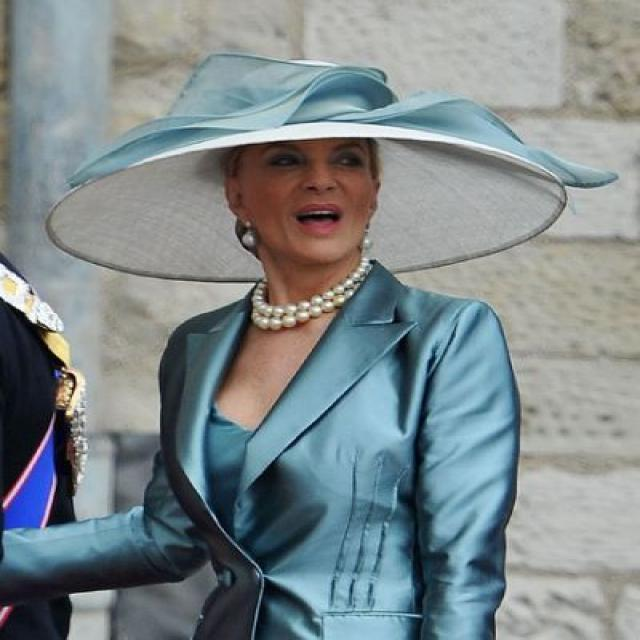Earring: (228, 205, 263, 268), (353, 209, 386, 262)
